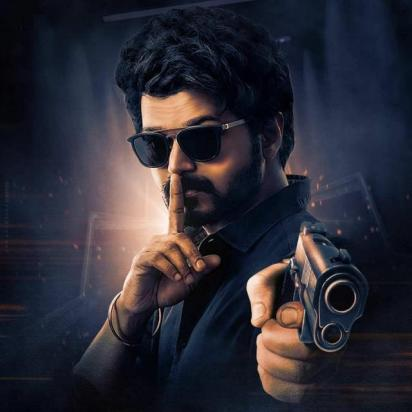Gun: (245, 221, 374, 365)
